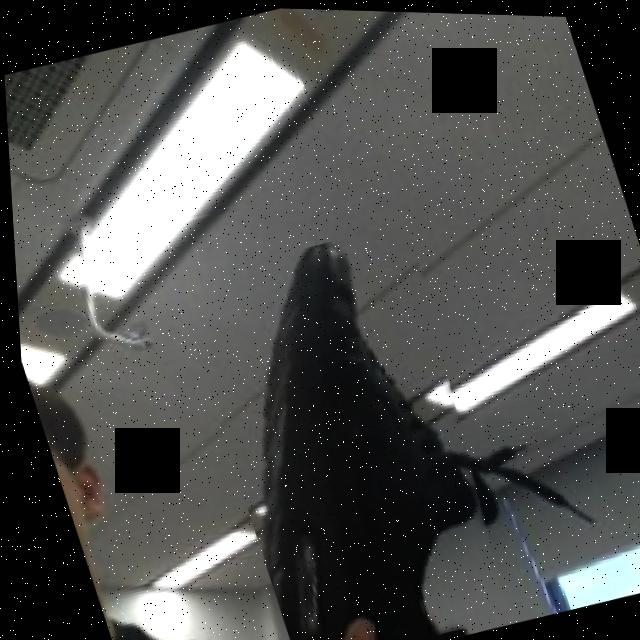shoe: (166, 214, 531, 640)
